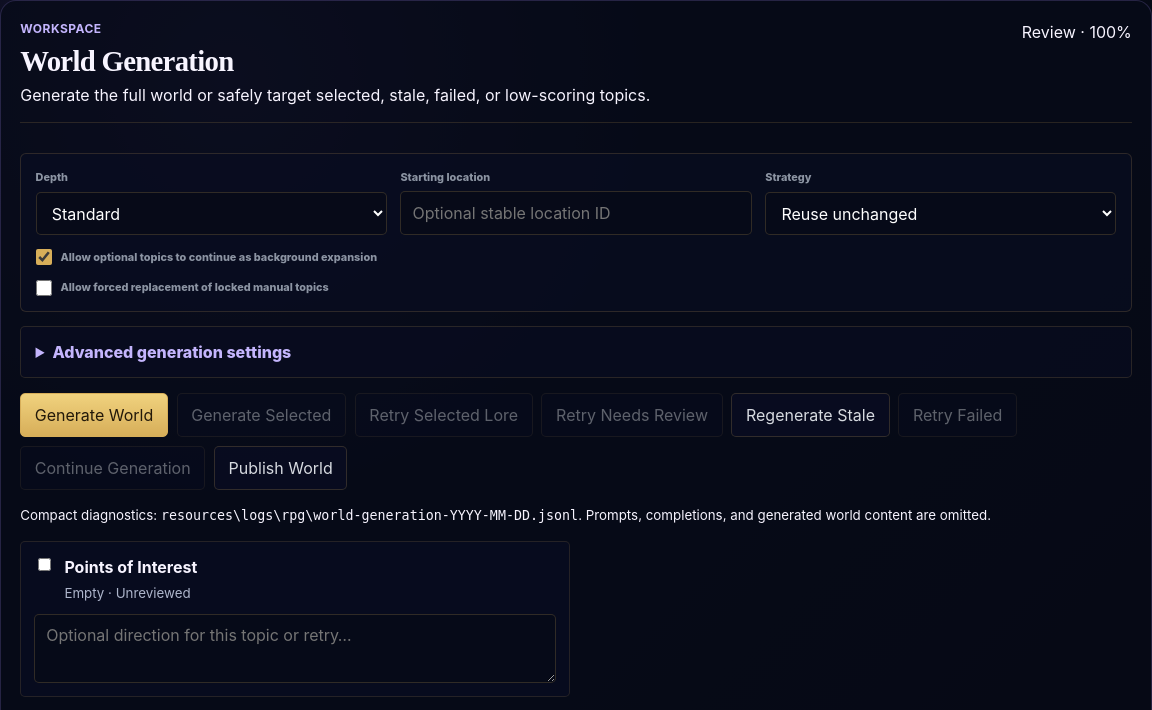
Test case: RpgWorldGenerationPanel › publishes a generation run after it reaches review
What coordinates should you click on to do the following:
click the button "Publish World"
I would click on:
 (281, 468)
Its box is [214,446,347,490].
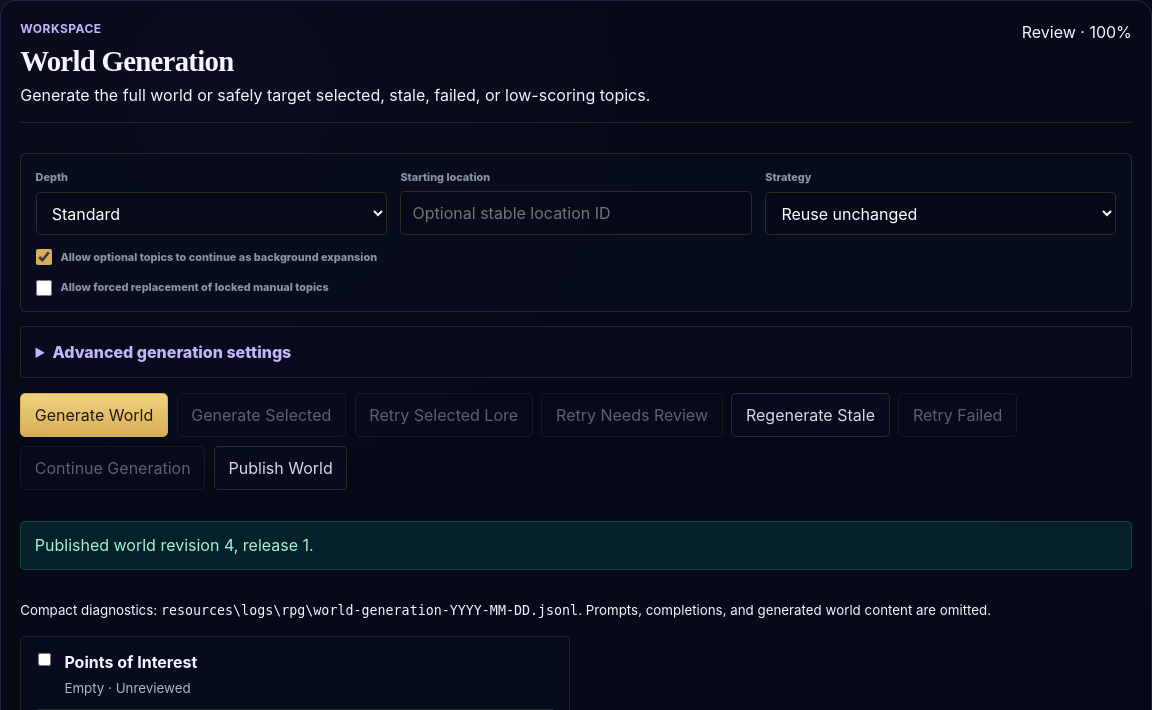
Result: the text "Published world revision 4, release 1." is shown at [20,521,1132,570]
